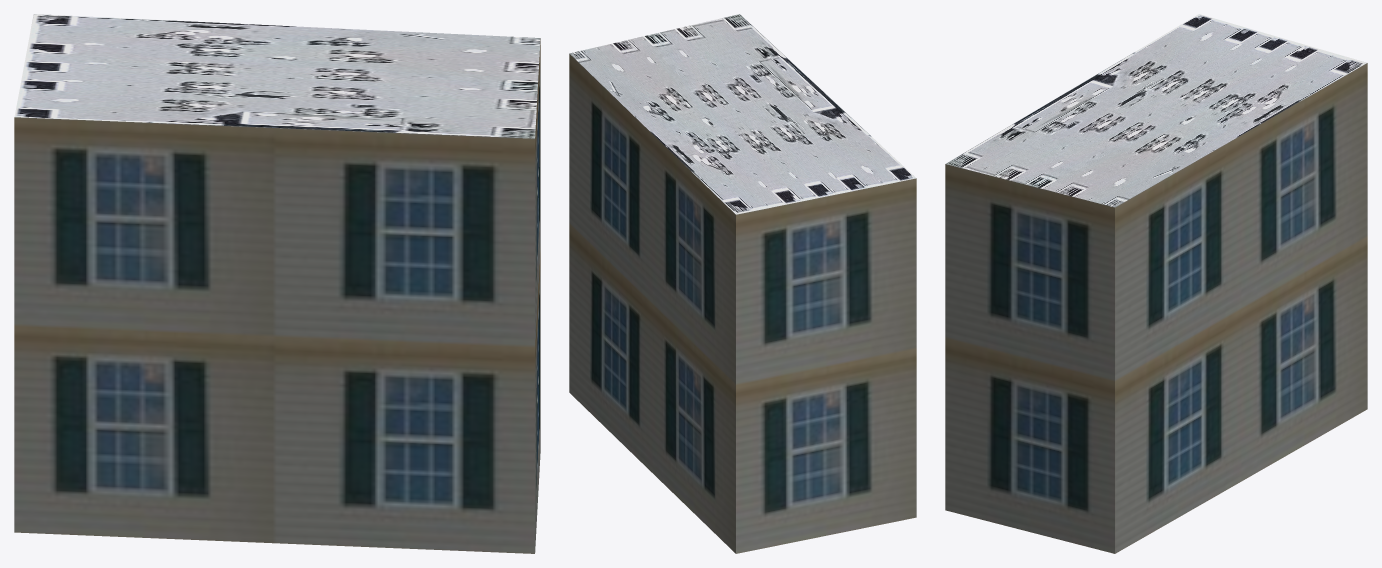
File: ResTex__557.fbx
The picture shows the model from 3 angles, left to right: view 1: azimuth 30°, elevation 25°; view 2: azimuth 150°, elevation 25°; view 3: azimuth 270°, elevation 25°; orthographic projection. The views are drawn at different scales.
Parts seen in each view (by area): view 1: CityEngineMaterial_7_m, CityEngineMaterial_2_m; view 2: CityEngineMaterial_7_m, CityEngineMaterial_2_m; view 3: CityEngineMaterial_7_m, CityEngineMaterial_2_m.
Boxes of the visible parts, x1=… form: CityEngineMaterial_7_m: x1=14, y1=38, x2=540, y2=553; CityEngineMaterial_2_m: x1=14, y1=14, x2=540, y2=138; CityEngineMaterial_7_m: x1=569, y1=54, x2=916, y2=553; CityEngineMaterial_2_m: x1=569, y1=14, x2=915, y2=214; CityEngineMaterial_7_m: x1=945, y1=63, x2=1367, y2=553; CityEngineMaterial_2_m: x1=946, y1=14, x2=1366, y2=207.
Bounding box in the file's own units: 7.19 × 6 × 6.63.
Materials: 2 (2 with a texture image).
